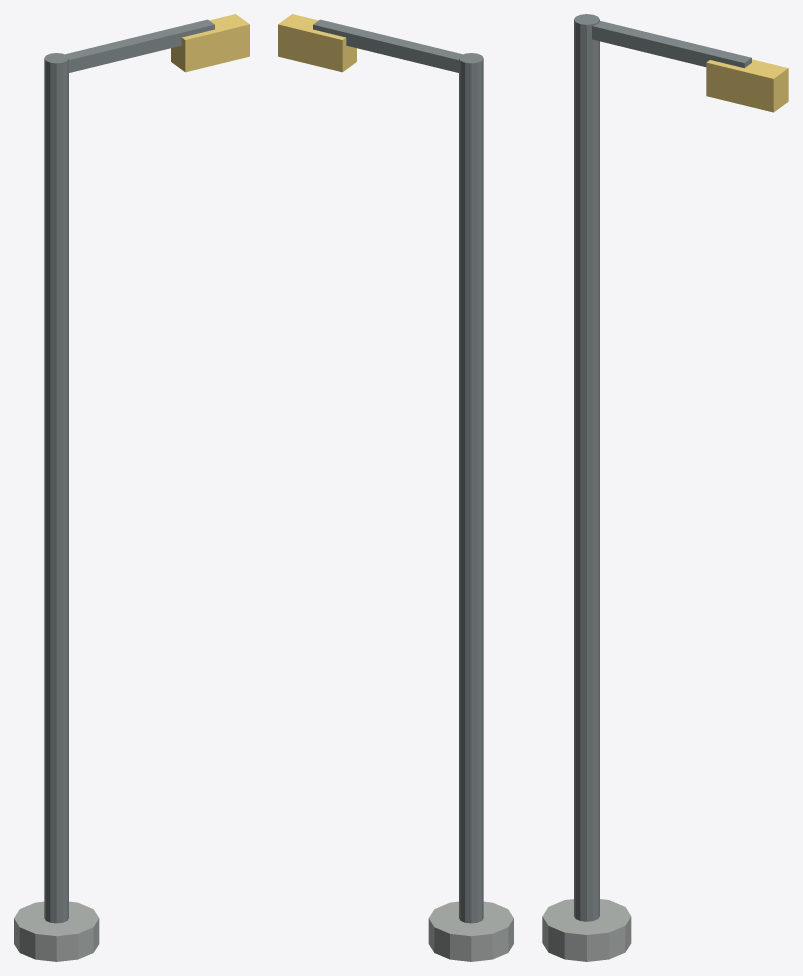
The model's file is PRP_STREET_003_street_lamp_b.glb.
3 views of the same model, side by side, from view 1: azimuth 30°, elevation 25°; view 2: azimuth 150°, elevation 25°; view 3: azimuth 330°, elevation 25° (orthographic). The views are drawn at different scales.
Parts seen in each view (by area): view 1: Part_48, Part_45, Part_42, Part_51, Part_79, Part_73, Part_39, Part_54, Part_76, Part_09, Part_12, Part_82; view 2: Part_57, Part_60, Part_63, Part_54, Part_78, Part_72, Part_66, Part_51, Part_76, Part_21, Part_24, Part_82; view 3: Part_42, Part_39, Part_45, Part_36, Part_79, Part_73, Part_48, Part_69, Part_76, Part_82, Part_03, Part_06 (+1 smaller).
Part boxes in pixels (bbox=[...]): Part_48: bbox=[50, 62, 56, 923]; Part_45: bbox=[56, 62, 62, 923]; Part_42: bbox=[63, 61, 67, 922]; Part_51: bbox=[46, 61, 50, 922]; Part_79: bbox=[185, 24, 249, 72]; Part_73: bbox=[68, 24, 214, 72]; Part_39: bbox=[67, 59, 68, 920]; Part_54: bbox=[44, 59, 45, 920]; Part_76: bbox=[65, 19, 214, 59]; Part_09: bbox=[56, 934, 77, 961]; Part_12: bbox=[35, 934, 56, 961]; Part_82: bbox=[182, 14, 249, 39]; Part_57: bbox=[471, 62, 477, 923]; Part_60: bbox=[465, 62, 471, 923]; Part_63: bbox=[460, 61, 464, 922]; Part_54: bbox=[477, 61, 481, 922]; Part_78: bbox=[278, 24, 342, 72]; Part_72: bbox=[313, 24, 459, 72]; Part_66: bbox=[459, 59, 460, 920]; Part_51: bbox=[482, 59, 483, 920]; Part_76: bbox=[313, 19, 462, 59]; Part_21: bbox=[471, 934, 492, 961]; Part_24: bbox=[450, 934, 471, 961]; Part_82: bbox=[278, 14, 345, 39]; Part_42: bbox=[580, 24, 586, 921]; Part_39: bbox=[587, 24, 593, 921]; Part_45: bbox=[575, 22, 580, 920]; Part_36: bbox=[593, 22, 598, 920]; Part_79: bbox=[706, 62, 773, 112]; Part_73: bbox=[592, 26, 744, 68]; Part_48: bbox=[574, 20, 575, 918]; Part_69: bbox=[598, 20, 599, 918]; Part_76: bbox=[593, 21, 751, 62]; Part_82: bbox=[706, 59, 788, 78]; Part_03: bbox=[587, 932, 609, 961]; Part_06: bbox=[564, 932, 586, 961].
Size of the model in its own units: 1.45 by 5.5 by 0.48.
